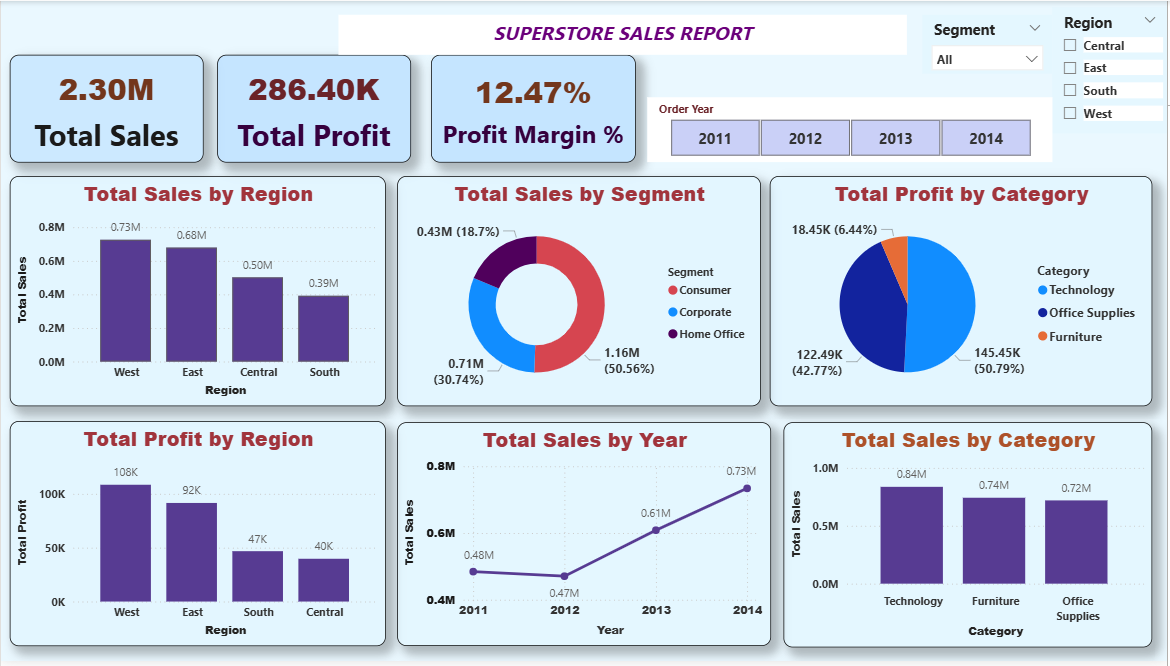

Layout of this report page (visuals, bound fields, positions):
{"tool":"powerbi","page":{"name":"Page 1","canvas":[1280,725],"ordinal":0},"visuals":[{"type":"card","fields":{"Values":["Superstore_Cleaned.Total Sales"]},"box":[9.6,59,212.7,118],"z":0},{"type":"card","fields":{"Values":["Superstore_Cleaned.Total Profit"]},"box":[237.4,59,212.7,118],"z":1000},{"type":"card","fields":{"Values":["Superstore_Cleaned.Profit Margin %"]},"box":[472,59,225,118],"z":2000},{"type":"columnChart","fields":{"Y":["Superstore_Cleaned.Total Sales"],"Category":["Superstore_Cleaned.Region"]},"box":[9.6,192.1,413,252.5],"z":3000},{"type":"donutChart","fields":{"Category":["Superstore_Cleaned.Segment"],"Y":["Superstore_Cleaned.Total Sales"]},"box":[435,192.1,399.3,252.5],"z":4000},{"type":"slicer","fields":{"Values":["Superstore_Cleaned.Region"]},"box":[1154,6.9,126.2,138.6],"z":5000},{"type":"slicer","fields":{"Values":["Superstore_Cleaned.Segment"]},"box":[1011.3,15.1,142.7,64.5],"z":6000},{"type":"textbox","box":[370.5,15.1,624.4,43.9],"z":7000},{"type":"pieChart","fields":{"Y":["Superstore_Cleaned.Total Profit"],"Category":["Superstore_Cleaned.Category"]},"box":[843.9,192.1,419.9,252.5],"z":8000},{"type":"columnChart","fields":{"Y":["Superstore_Cleaned.Total Profit"],"Category":["Superstore_Cleaned.Region"]},"box":[9.6,461.1,413,247],"z":9000},{"type":"columnChart","fields":{"Category":["Superstore_Cleaned.Category"],"Y":["Superstore_Cleaned.Total Sales"]},"box":[859,462.4,404.8,247],"z":10000},{"type":"slicer","fields":{"Values":["Superstore_Cleaned.Order Year"]},"box":[709.4,105.7,444.6,71.4],"z":11000},{"type":"lineChart","fields":{"Category":["Superstore_Cleaned.Order Date.Variation.Date Hierarchy.Year","Superstore_Cleaned.Order Date.Variation.Date Hierarchy.Quarter","Superstore_Cleaned.Order Date.Variation.Date Hierarchy.Month","Superstore_Cleaned.Order Date.Variation.Date Hierarchy.Day"],"Y":["Superstore_Cleaned.Total Sales"]},"box":[435,462.4,410.3,245.6],"z":12000}]}

Visuals, with their boxes in screenshot pixels (x1, y1, x2, y2), scaled from the page's 1280x725 canvas onto the 1170x666 screenshot:
card - Superstore_Cleaned.Total Sales: x1=9, y1=54, x2=203, y2=163
card - Superstore_Cleaned.Total Profit: x1=217, y1=54, x2=411, y2=163
card - Superstore_Cleaned.Profit Margin %: x1=431, y1=54, x2=637, y2=163
columnChart - Superstore_Cleaned.Total Sales x Superstore_Cleaned.Region: x1=9, y1=176, x2=386, y2=408
donutChart - Superstore_Cleaned.Segment x Superstore_Cleaned.Total Sales: x1=398, y1=176, x2=763, y2=408
slicer - Superstore_Cleaned.Region: x1=1055, y1=6, x2=1169, y2=134
slicer - Superstore_Cleaned.Segment: x1=924, y1=14, x2=1055, y2=73
textbox: x1=339, y1=14, x2=909, y2=54
pieChart - Superstore_Cleaned.Total Profit x Superstore_Cleaned.Category: x1=771, y1=176, x2=1155, y2=408
columnChart - Superstore_Cleaned.Total Profit x Superstore_Cleaned.Region: x1=9, y1=424, x2=386, y2=650
columnChart - Superstore_Cleaned.Category x Superstore_Cleaned.Total Sales: x1=785, y1=425, x2=1155, y2=652
slicer - Superstore_Cleaned.Order Year: x1=648, y1=97, x2=1055, y2=163
lineChart - Superstore_Cleaned.Order Date.Variation.Date Hierarchy.Year x Superstore_Cleaned.Order Date.Variation.Date Hierarchy.Quarter: x1=398, y1=425, x2=773, y2=650
